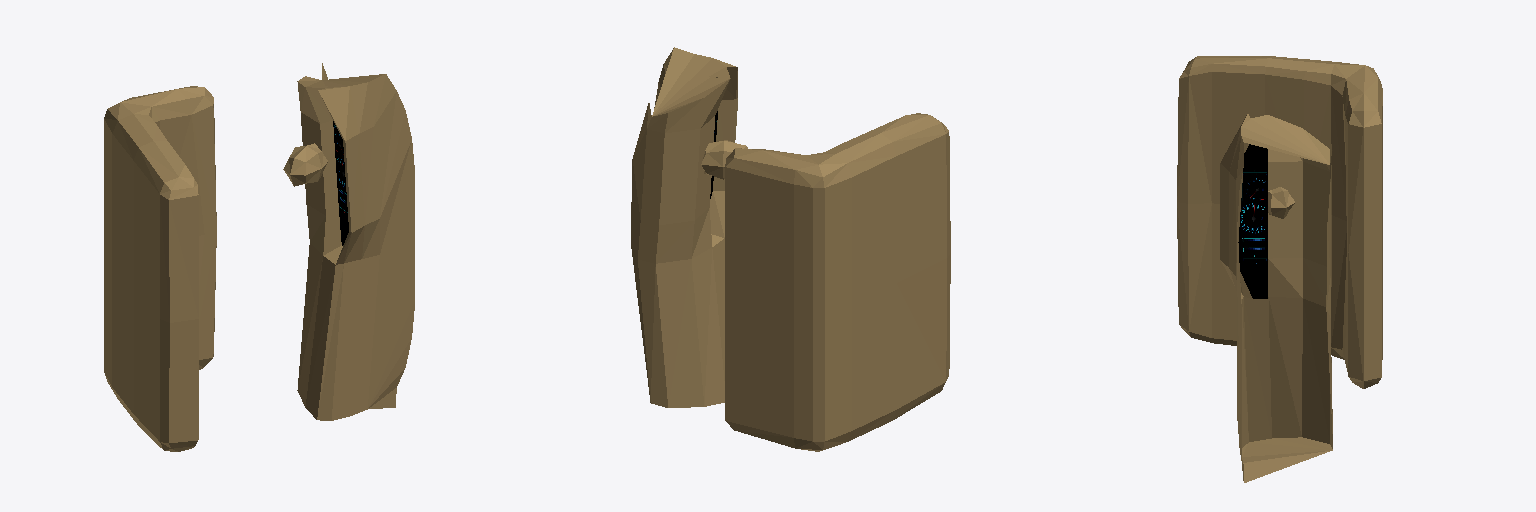
3 renders of one model, left to right at view 1: azimuth 30°, elevation 25°; view 2: azimuth 150°, elevation 25°; view 3: azimuth 270°, elevation 25°, orthographic.
Parts seen in each view (by area): view 1: chair07, Box02, steering_column, panel; view 2: chair07, Box02, steering_column; view 3: chair07, Box02, panel, steering_column.
Part boxes in pixels (x1,y1,x2,y2): chair07: (104, 86, 216, 451); Box02: (297, 63, 414, 420); steering_column: (283, 143, 327, 186); panel: (333, 121, 348, 245); chair07: (725, 113, 950, 451); Box02: (631, 47, 737, 407); steering_column: (701, 140, 747, 179); chair07: (1177, 56, 1382, 388); Box02: (1220, 114, 1332, 482); panel: (1238, 144, 1267, 298); steering_column: (1268, 187, 1294, 218).
Bounding box in the file's own units: 1.42 × 1.65 × 0.9186.
Materials: 3 (1 with a texture image).